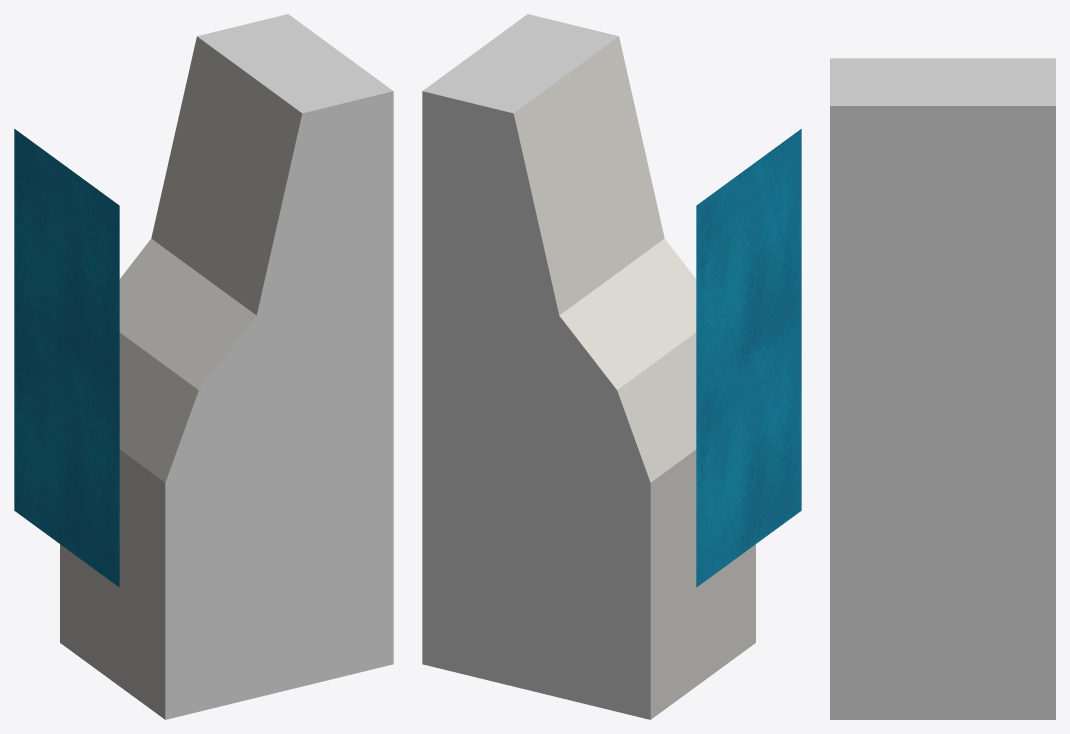
File: Cliff_Waterfall_Component_Center_Base.glb
3 views of the same model, side by side, from view 1: azimuth 30°, elevation 25°; view 2: azimuth 150°, elevation 25°; view 3: azimuth 270°, elevation 25° (orthographic). The views are drawn at different scales.
Visible parts, largest first — view 1: Basic_Straight_Base_1x2, Water_Waterfall_Base_Center_1x1; view 2: Basic_Straight_Base_1x2, Water_Waterfall_Base_Center_1x1; view 3: Basic_Straight_Base_1x2.
Part boxes in pixels (left/top/right/bottom): Basic_Straight_Base_1x2: left=60, top=14, right=393, bottom=719; Water_Waterfall_Base_Center_1x1: left=14, top=129, right=119, bottom=587; Basic_Straight_Base_1x2: left=422, top=14, right=755, bottom=719; Water_Waterfall_Base_Center_1x1: left=696, top=129, right=801, bottom=587; Basic_Straight_Base_1x2: left=830, top=58, right=1055, bottom=719.
Bounding box in the file's own units: 150 × 300 × 100.
3 materials, 1 textured.
